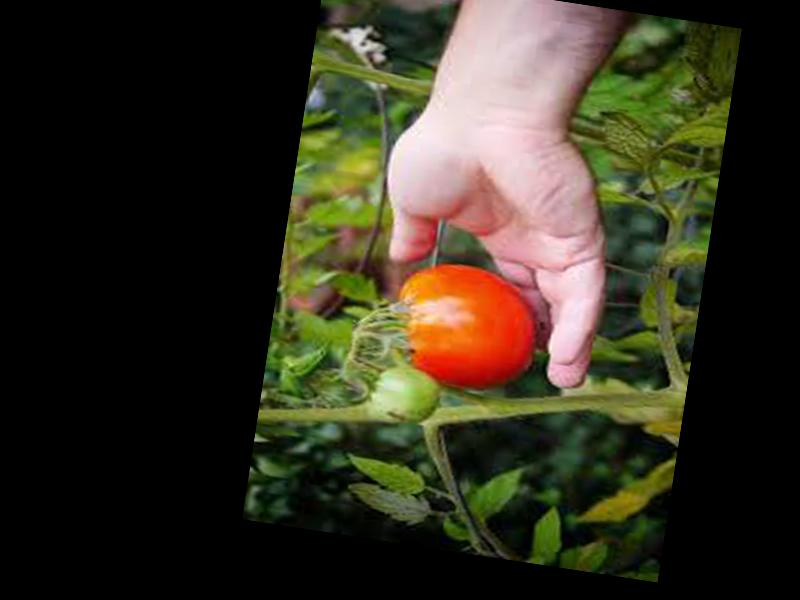Tomato: (382, 255, 545, 401)
